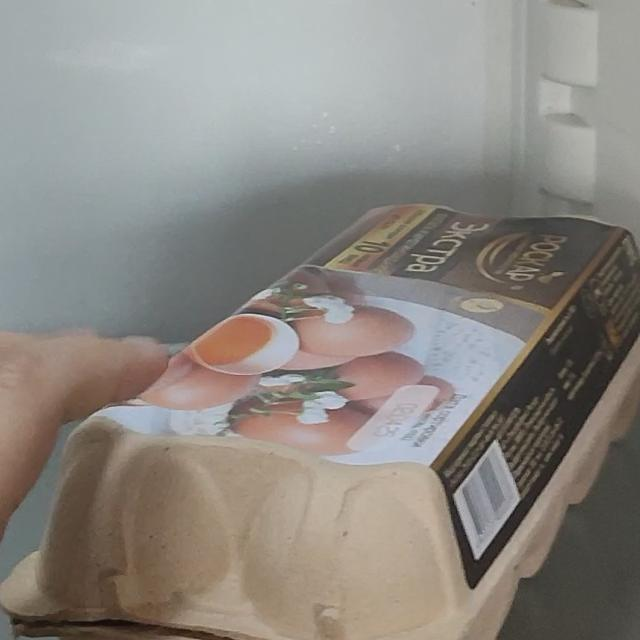egg: (13, 163, 640, 640)
